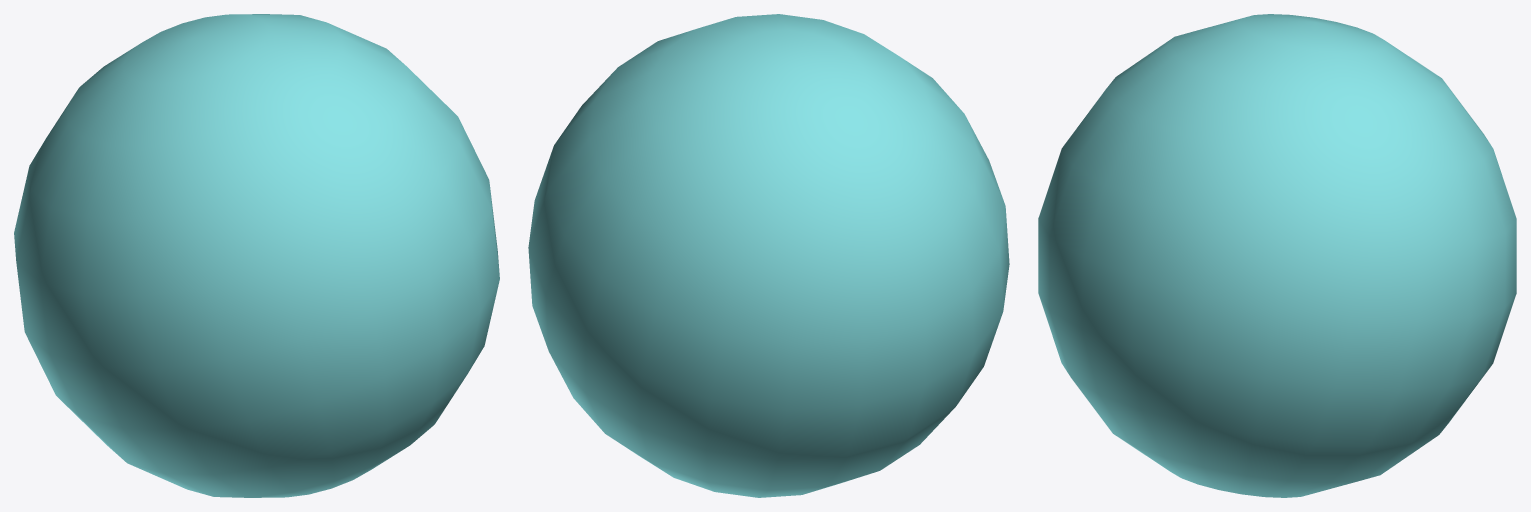
Rendered from Balle01.DAE.
3 views of the same model, side by side, from view 1: azimuth 30°, elevation 25°; view 2: azimuth 150°, elevation 25°; view 3: azimuth 270°, elevation 25° (orthographic).
Parts seen in each view (by area): view 1: Sphere01; view 2: Sphere01; view 3: Sphere01.
Boxes of the visible parts, bbox=[...] form: Sphere01: bbox=[14, 14, 499, 497]; Sphere01: bbox=[528, 14, 1009, 497]; Sphere01: bbox=[1038, 14, 1516, 497].
Bounding box in the file's own units: 13.89 × 13.8 × 13.95.
